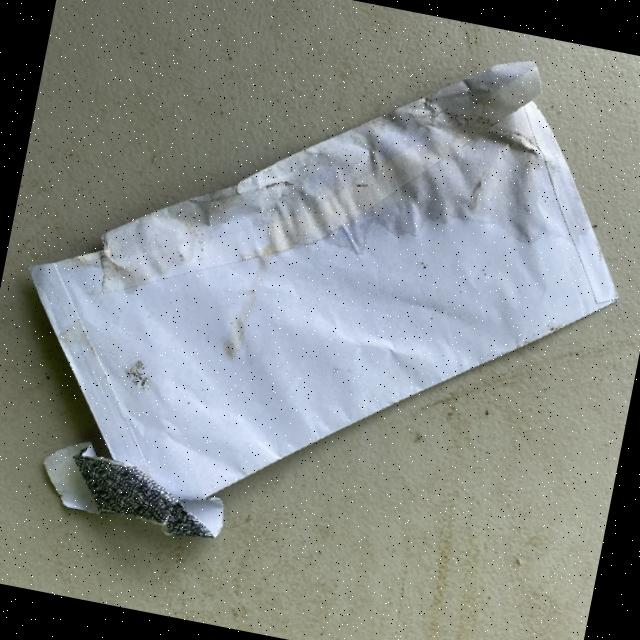paper: (0, 0, 640, 607)
